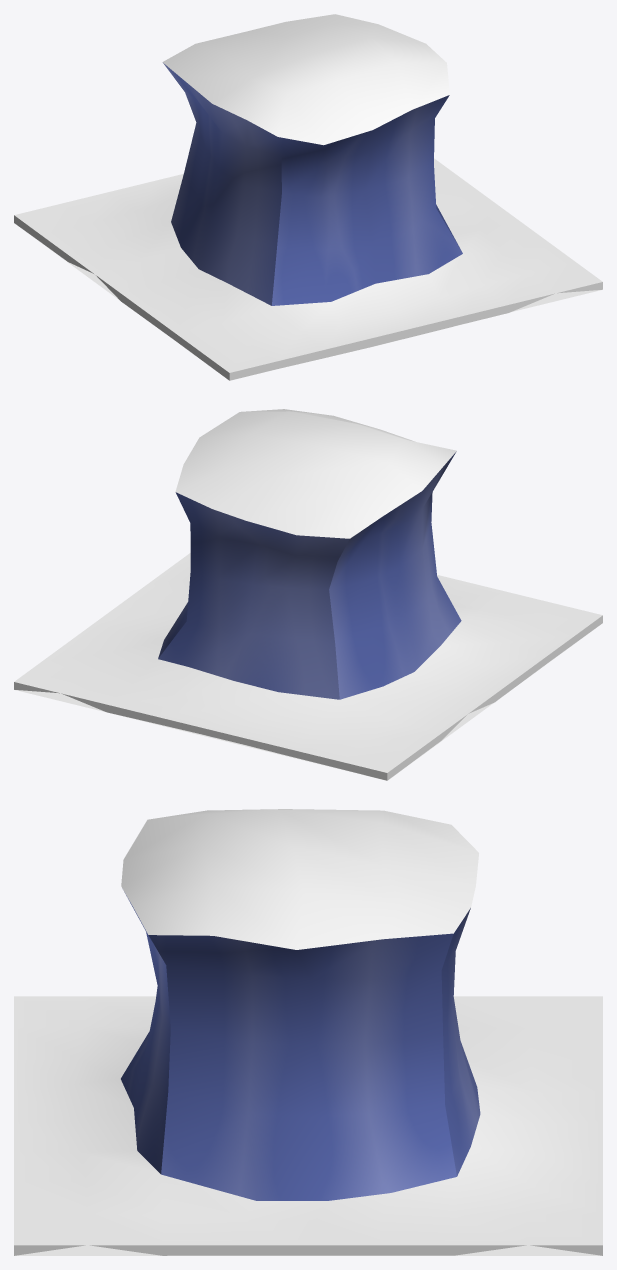
Rendered from wall_slim_single_1.glb.
The picture shows the model from 3 angles, top to bottom: view 1: azimuth 30°, elevation 25°; view 2: azimuth 150°, elevation 25°; view 3: azimuth 270°, elevation 25°; orthographic projection. The views are drawn at different scales.
Parts seen in each view (by area): view 1: wall_slim_single_1.001; view 2: wall_slim_single_1.001; view 3: wall_slim_single_1.001.
Part boxes in pixels (x1,y1,x2,y2): wall_slim_single_1.001: [14, 14, 602, 380]; wall_slim_single_1.001: [14, 409, 602, 780]; wall_slim_single_1.001: [14, 809, 602, 1255].
Bounding box in the file's own units: 2 × 1.06 × 2.
1 material, 1 textured.
